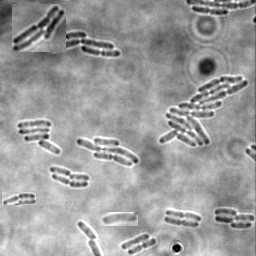Dividing: (52, 175, 89, 189), (128, 238, 157, 255), (166, 209, 202, 222), (2, 192, 36, 205), (164, 217, 200, 228), (192, 7, 229, 17)
Microcolony: (158, 76, 249, 147), (12, 4, 66, 52), (76, 137, 139, 168), (45, 32, 121, 57), (18, 120, 61, 155), (214, 208, 255, 229), (99, 212, 138, 226)
Rod: (121, 233, 150, 251), (78, 222, 99, 240), (50, 167, 72, 177), (69, 174, 90, 183)
